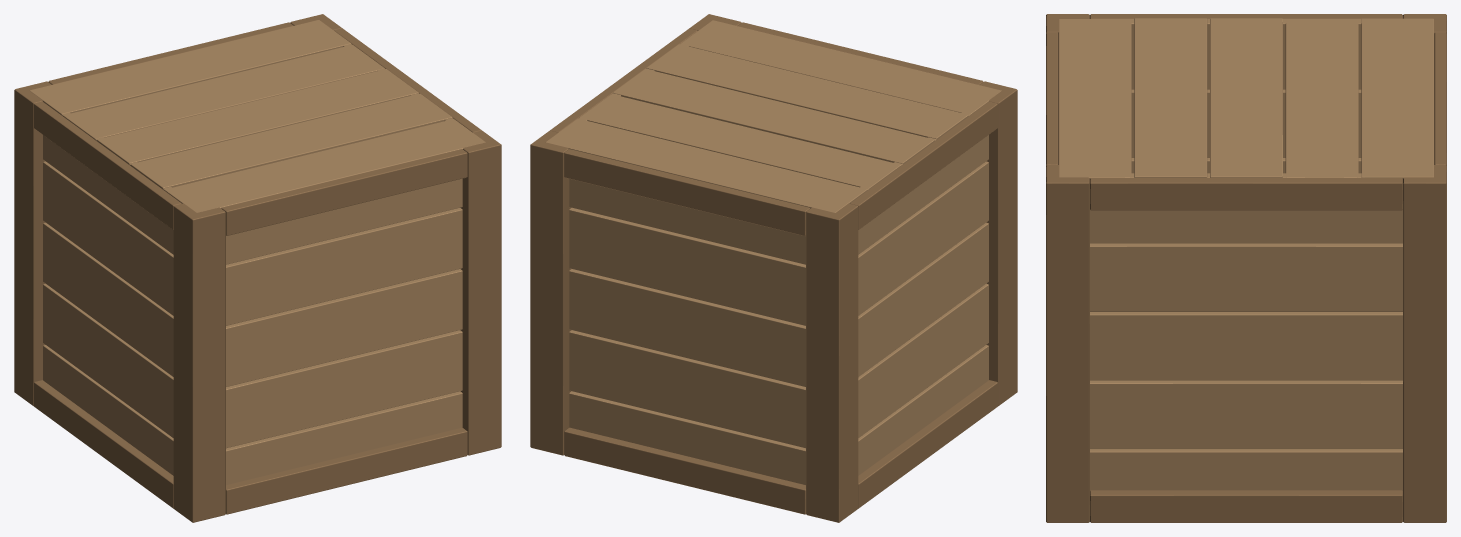
Rendered from crate_a.glb.
The picture shows the model from 3 angles, left to right: view 1: azimuth 30°, elevation 25°; view 2: azimuth 150°, elevation 25°; view 3: azimuth 270°, elevation 25°; orthographic projection. The views are drawn at different scales.
Parts seen in each view (by area): view 1: ecke-1-1, by2b, by1b, by3b, ecke1-1, top1, top4, top2, top3, top0, by0b, ecke-11 (+12 smaller); view 2: ecke-11, by2a, by1a, by3a, ecke11, top2, top1, top3, top4, top0, by0a, ecke-1-1 (+12 smaller); view 3: bx1a, bx2a, bx3a, ecke1-1, ecke11, bx0a, top1, top4, top3, top0, top2, bx4a (+7 smaller).
Boxes of the visible parts, x1,y1,x2,y2 form: ecke-1-1: (173,203,225,522); by2b: (226,269,462,386); by1b: (226,330,462,448); by3b: (226,208,462,325); ecke1-1: (460,130,501,455); top1: (130,93,452,188); top4: (30,20,351,114); top2: (97,69,418,164); top3: (63,44,384,139); top0: (164,119,485,212); by0b: (226,391,462,484); ecke-11: (14,81,51,406); ecke-11: (806,203,858,522); by2a: (569,269,805,386); by1a: (569,330,805,448); by3a: (569,208,805,325); ecke11: (530,130,571,455); top2: (613,69,934,164); top1: (646,44,968,139); top3: (579,94,901,188); top4: (546,118,867,212); top0: (681,20,1001,114); by0a: (569,391,805,484); ecke-1-1: (980,81,1017,406); bx1a: (1090,380,1402,449); bx2a: (1090,312,1402,380); bx3a: (1090,243,1402,311); ecke1-1: (1046,165,1089,522); ecke11: (1403,165,1446,522); bx0a: (1090,449,1402,490); top1: (1134,18,1207,177); top4: (1361,18,1434,178); top3: (1285,19,1358,177); top0: (1058,19,1131,178); top2: (1210,18,1282,177); bx4a: (1090,173,1402,243).
Size of the model in its own units: 0.64 by 0.6017 by 0.64.
